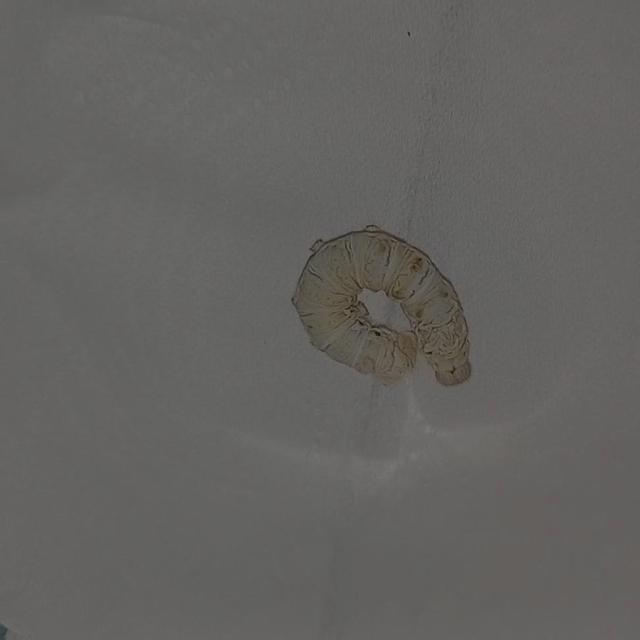Healthy: (277, 195, 508, 417)
